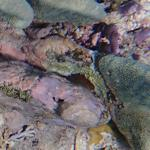dead: (8, 13, 138, 138)
